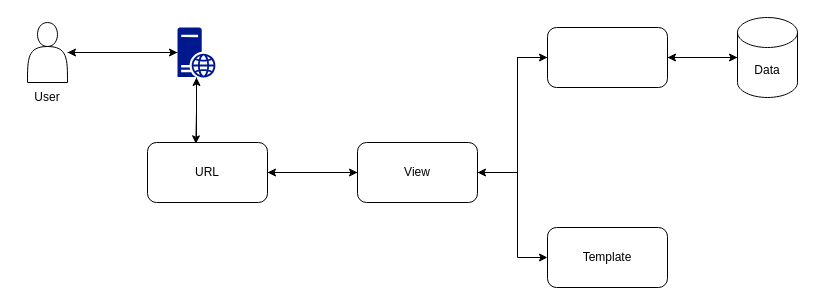
Image size: 815x305. Some labels were removed from this diagram. Here are the shapes that lost their labels. From the top down, the centre of each, then its label:
At [196,52]: "Flask Server".
At [607,57]: "Model".
